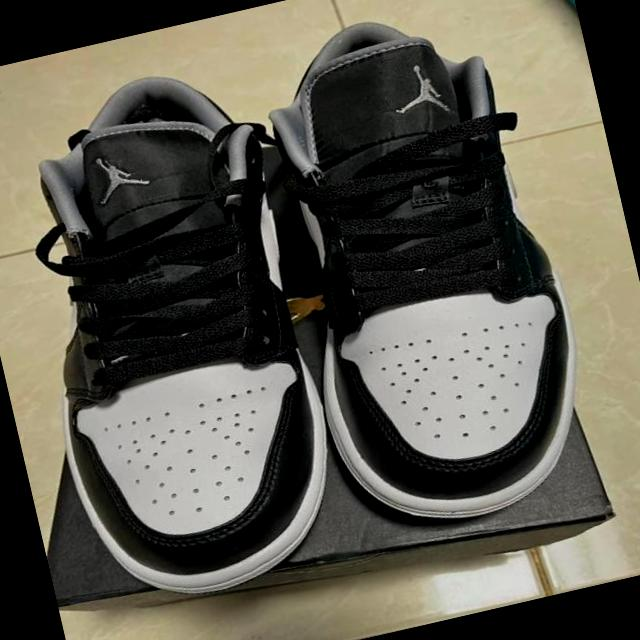nike_original_jordan: (0, 53, 365, 620), (243, 0, 614, 543)
